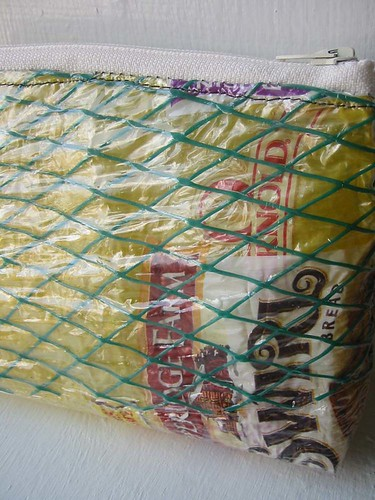plastic bag: (1, 69, 375, 475)
